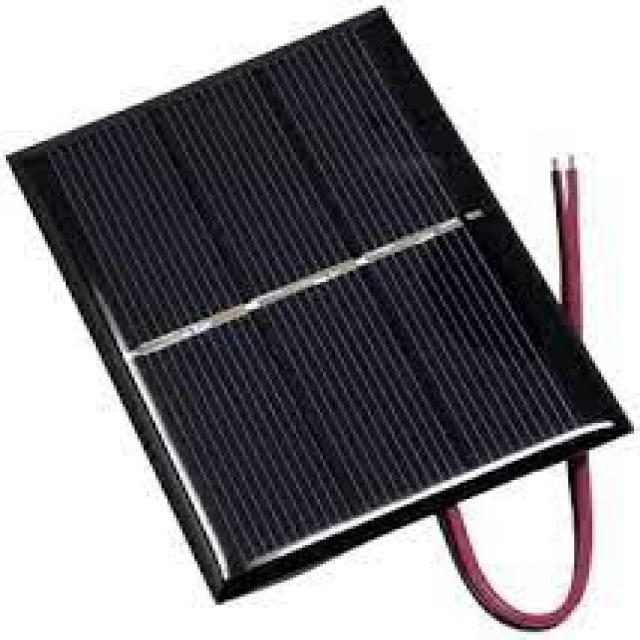no faulty: (10, 2, 634, 602)
